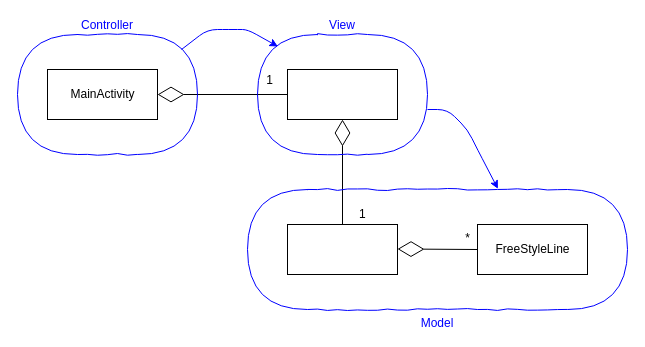
This 645x347 diagram has some shape labels left out. Here are the shapes that lost their labels. From the top down, the centre of each, then its label:
At point 342,94: "DrawingView".
At point 342,249: "Drawing".
